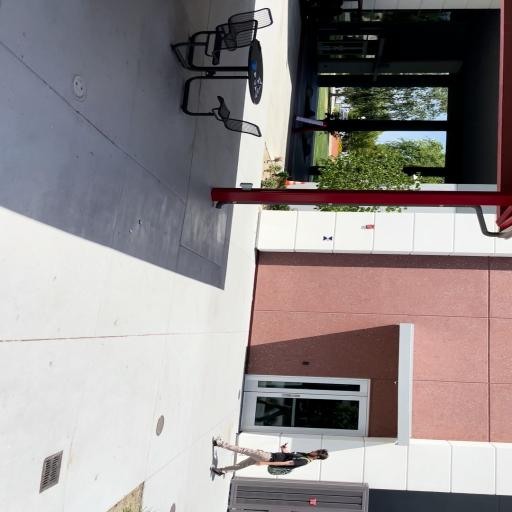target6: (323, 236, 332, 242)
